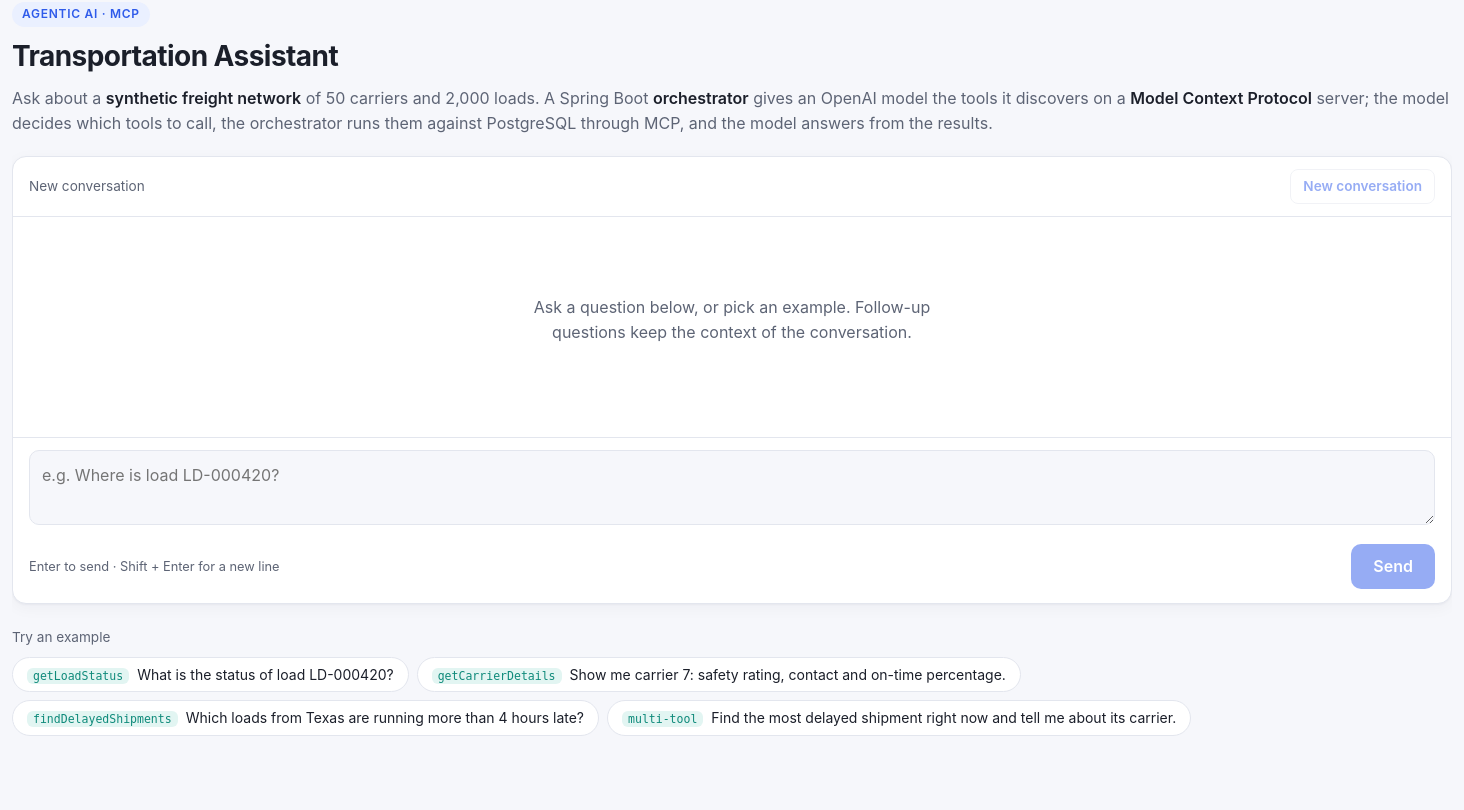
Scenario: TransportationAssistant › sends a message, renders the Markdown answer and starts without a conversationId
The width and height of the screenshot is (1464, 810).
Step 1. Type "  Where is load 420?  " into the text box named "message the transportation assistant" → (732, 487), box left=29, top=450, right=1435, bottom=525
Then press Enter
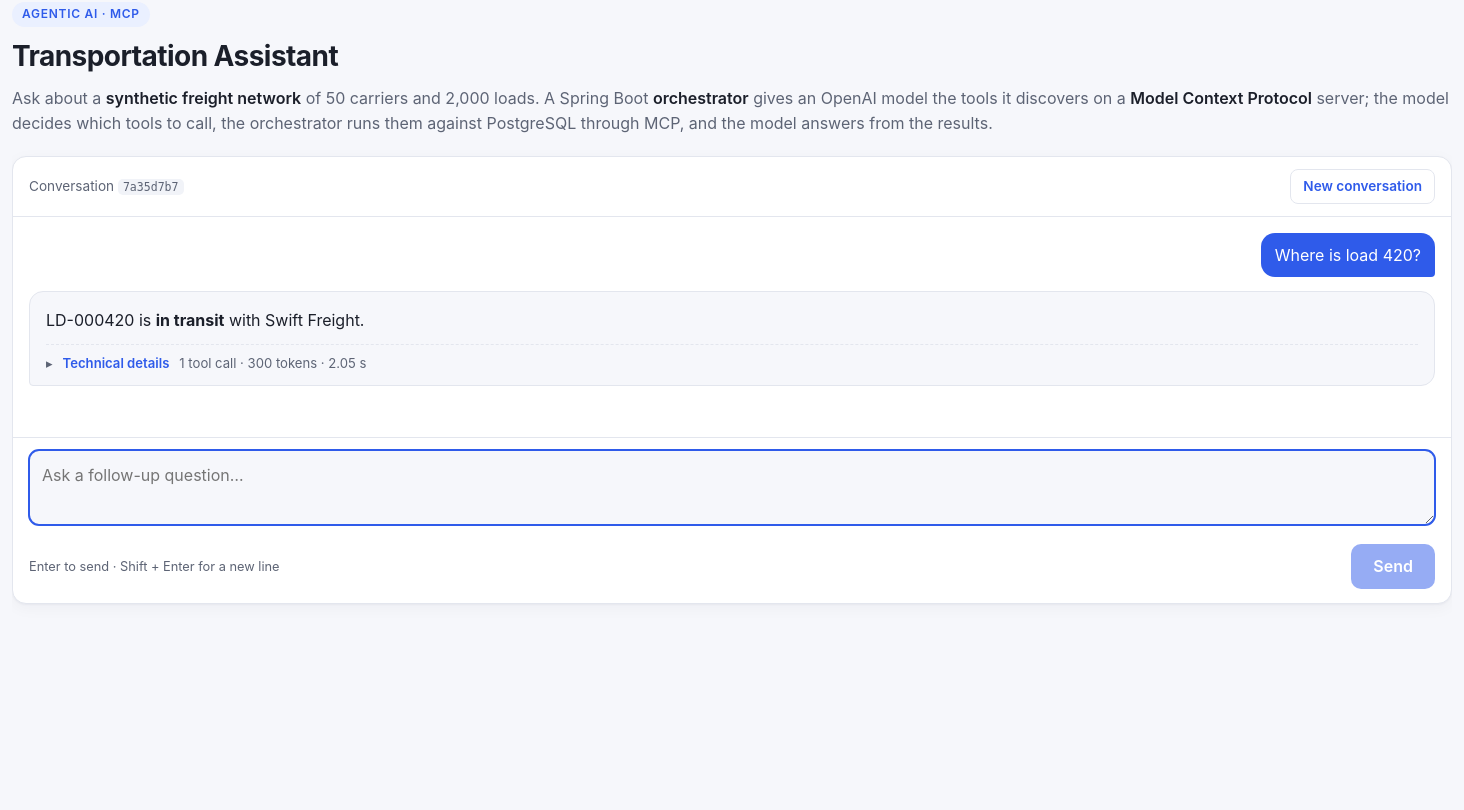
Check: the text "in transit" is shown, box left=156, top=310, right=224, bottom=330
Check: the text "Where is load 420?" is shown, box left=1261, top=233, right=1435, bottom=277
Check: the text "7a35d7b7" is shown, box left=118, top=179, right=184, bottom=195
